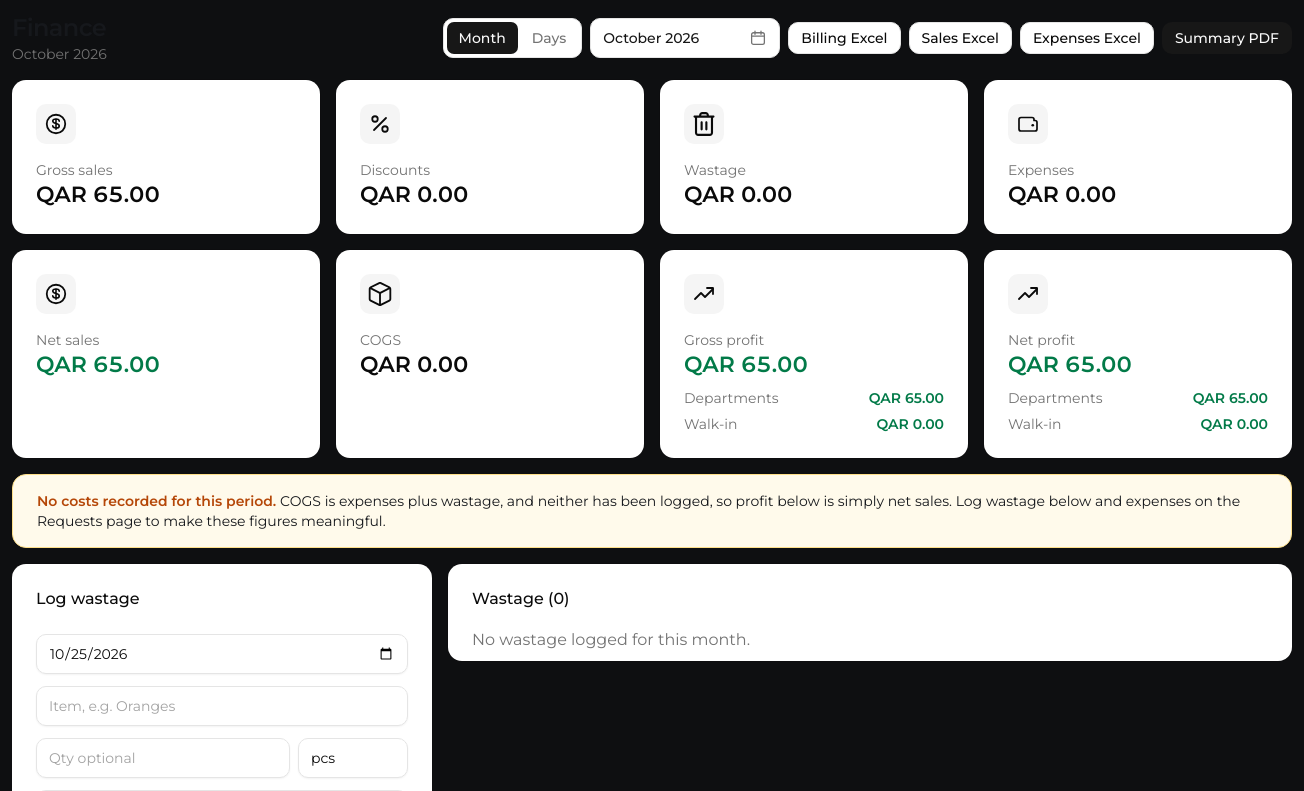
FinanceScreen date range › goes back to the whole month when Month is re-selected
Click the button "Days" at (549, 38), box [520, 22, 578, 54]
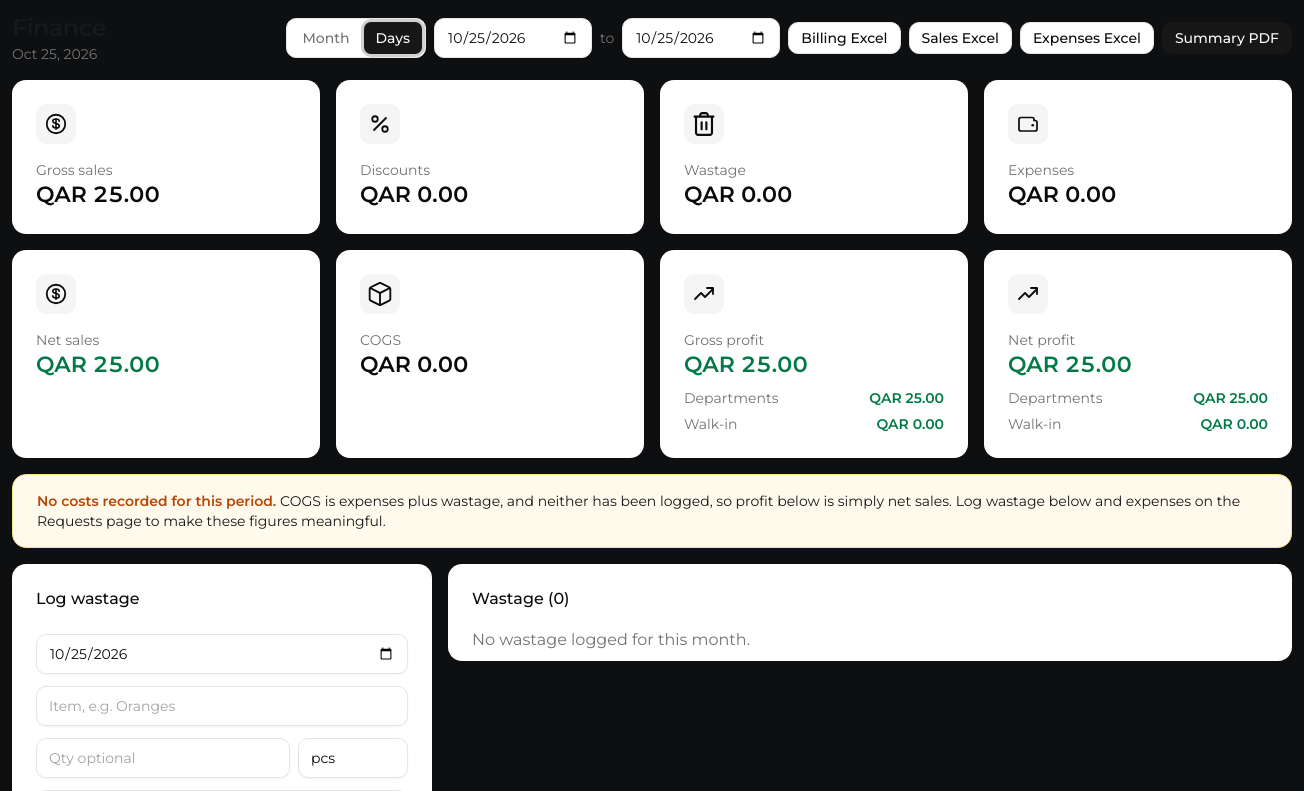
Click the button "Month" at (326, 38), box [290, 22, 362, 54]
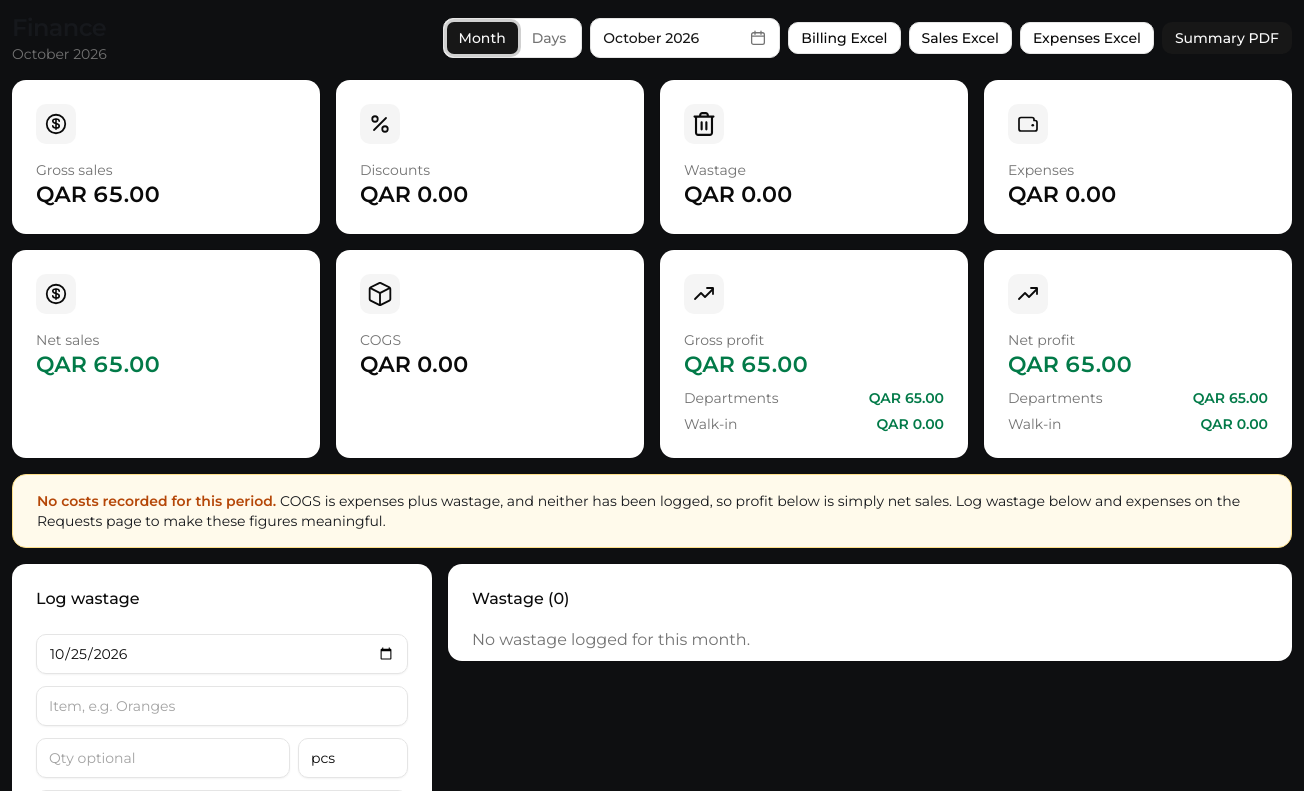
Expected: the button with aria-label "Month," is shown, [590, 18, 780, 58]
Expected: the 2nd text "October 2026" is shown, [12, 44, 107, 64]
